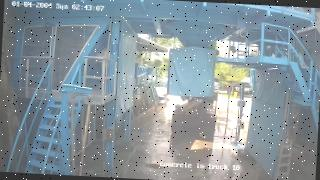cement_mixer_truck: (171, 78, 219, 137)
